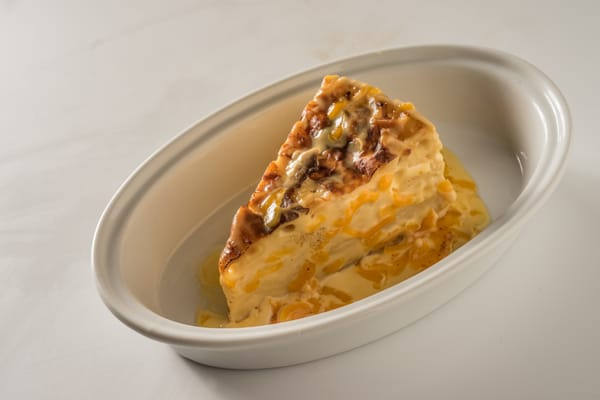sushi: (74, 43, 574, 371)
